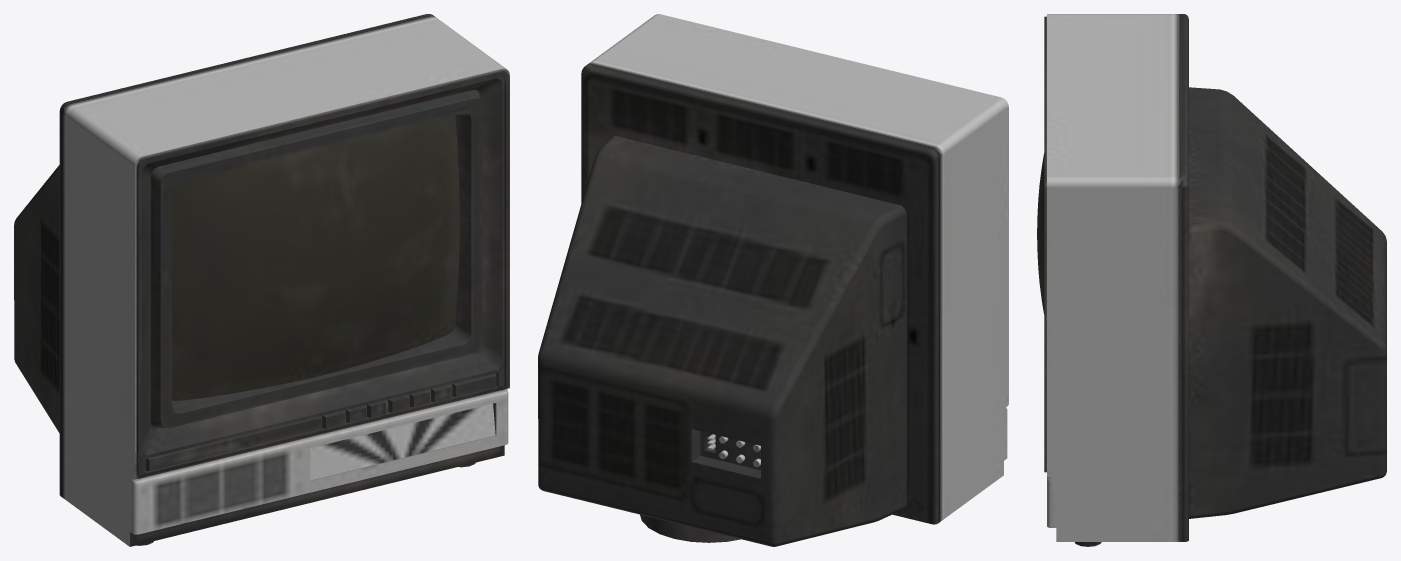
3 renders of one model, left to right at view 1: azimuth 30°, elevation 25°; view 2: azimuth 150°, elevation 25°; view 3: azimuth 270°, elevation 25°, orthographic. The views are drawn at different scales.
Parts seen in each view (by area): view 1: television_02; view 2: television_02; view 3: television_02.
Part boxes in pixels (x1,y1,x2,y2): television_02: (14, 14, 509, 546); television_02: (538, 14, 1008, 546); television_02: (1037, 14, 1386, 546).
Bounding box in the file's own units: 0.3997 × 0.4114 × 0.3502.
1 material, 1 textured.
